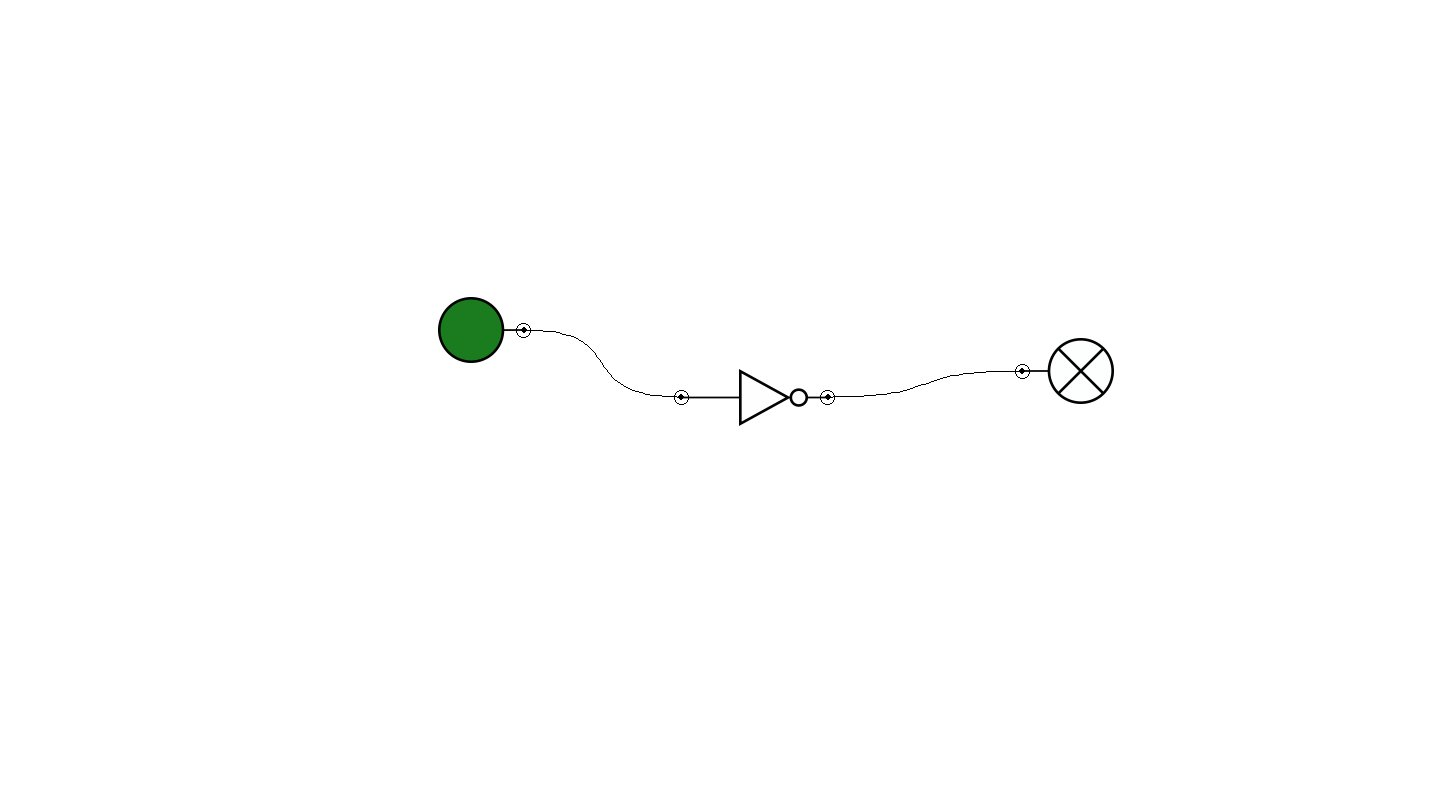bulb: (1015, 338, 1114, 404)
not: (674, 369, 835, 426)
switch_True: (438, 297, 531, 363)
